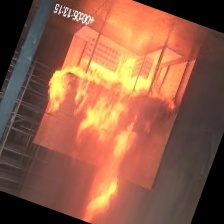fire: (4, 16, 199, 224)
